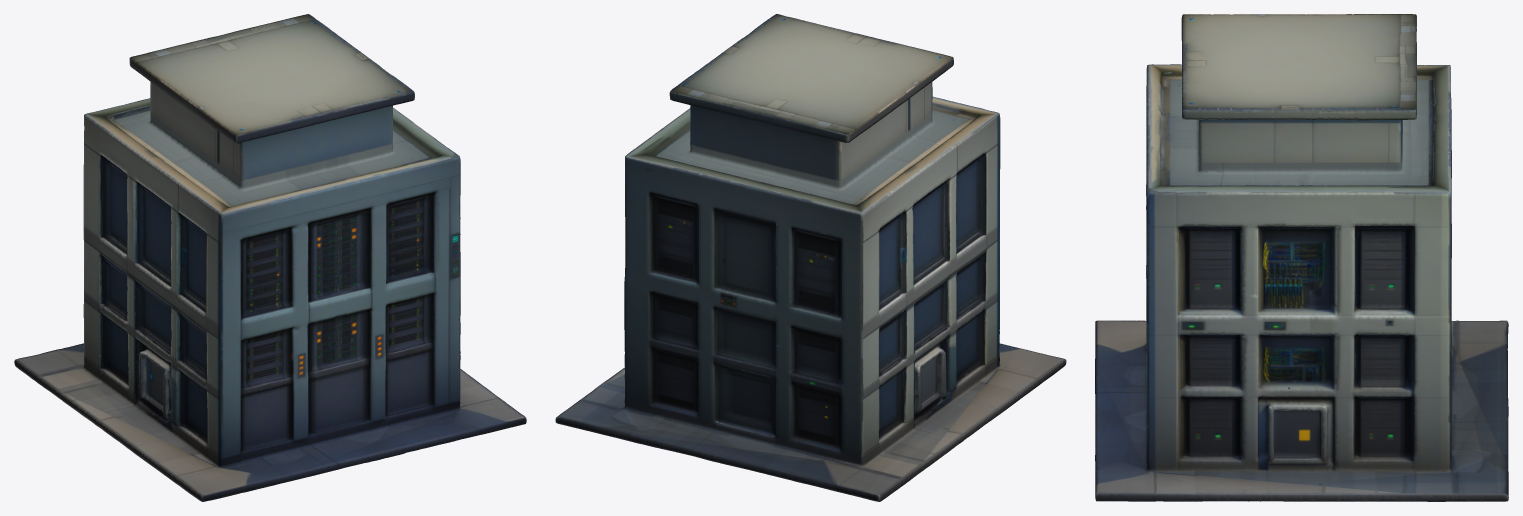
3 renders of one model, left to right at view 1: azimuth 30°, elevation 25°; view 2: azimuth 150°, elevation 25°; view 3: azimuth 270°, elevation 25°, orthographic. The views are drawn at different scales.
Visible parts, largest first — view 1: Mesh_0; view 2: Mesh_0; view 3: Mesh_0.
Part boxes in pixels (left/top/right/bottom): Mesh_0: left=14, top=14, right=526, bottom=501; Mesh_0: left=555, top=14, right=1066, bottom=501; Mesh_0: left=1095, top=14, right=1508, bottom=501.
Size of the model in its own units: 201 by 190 by 201.
1 material, 1 textured.
